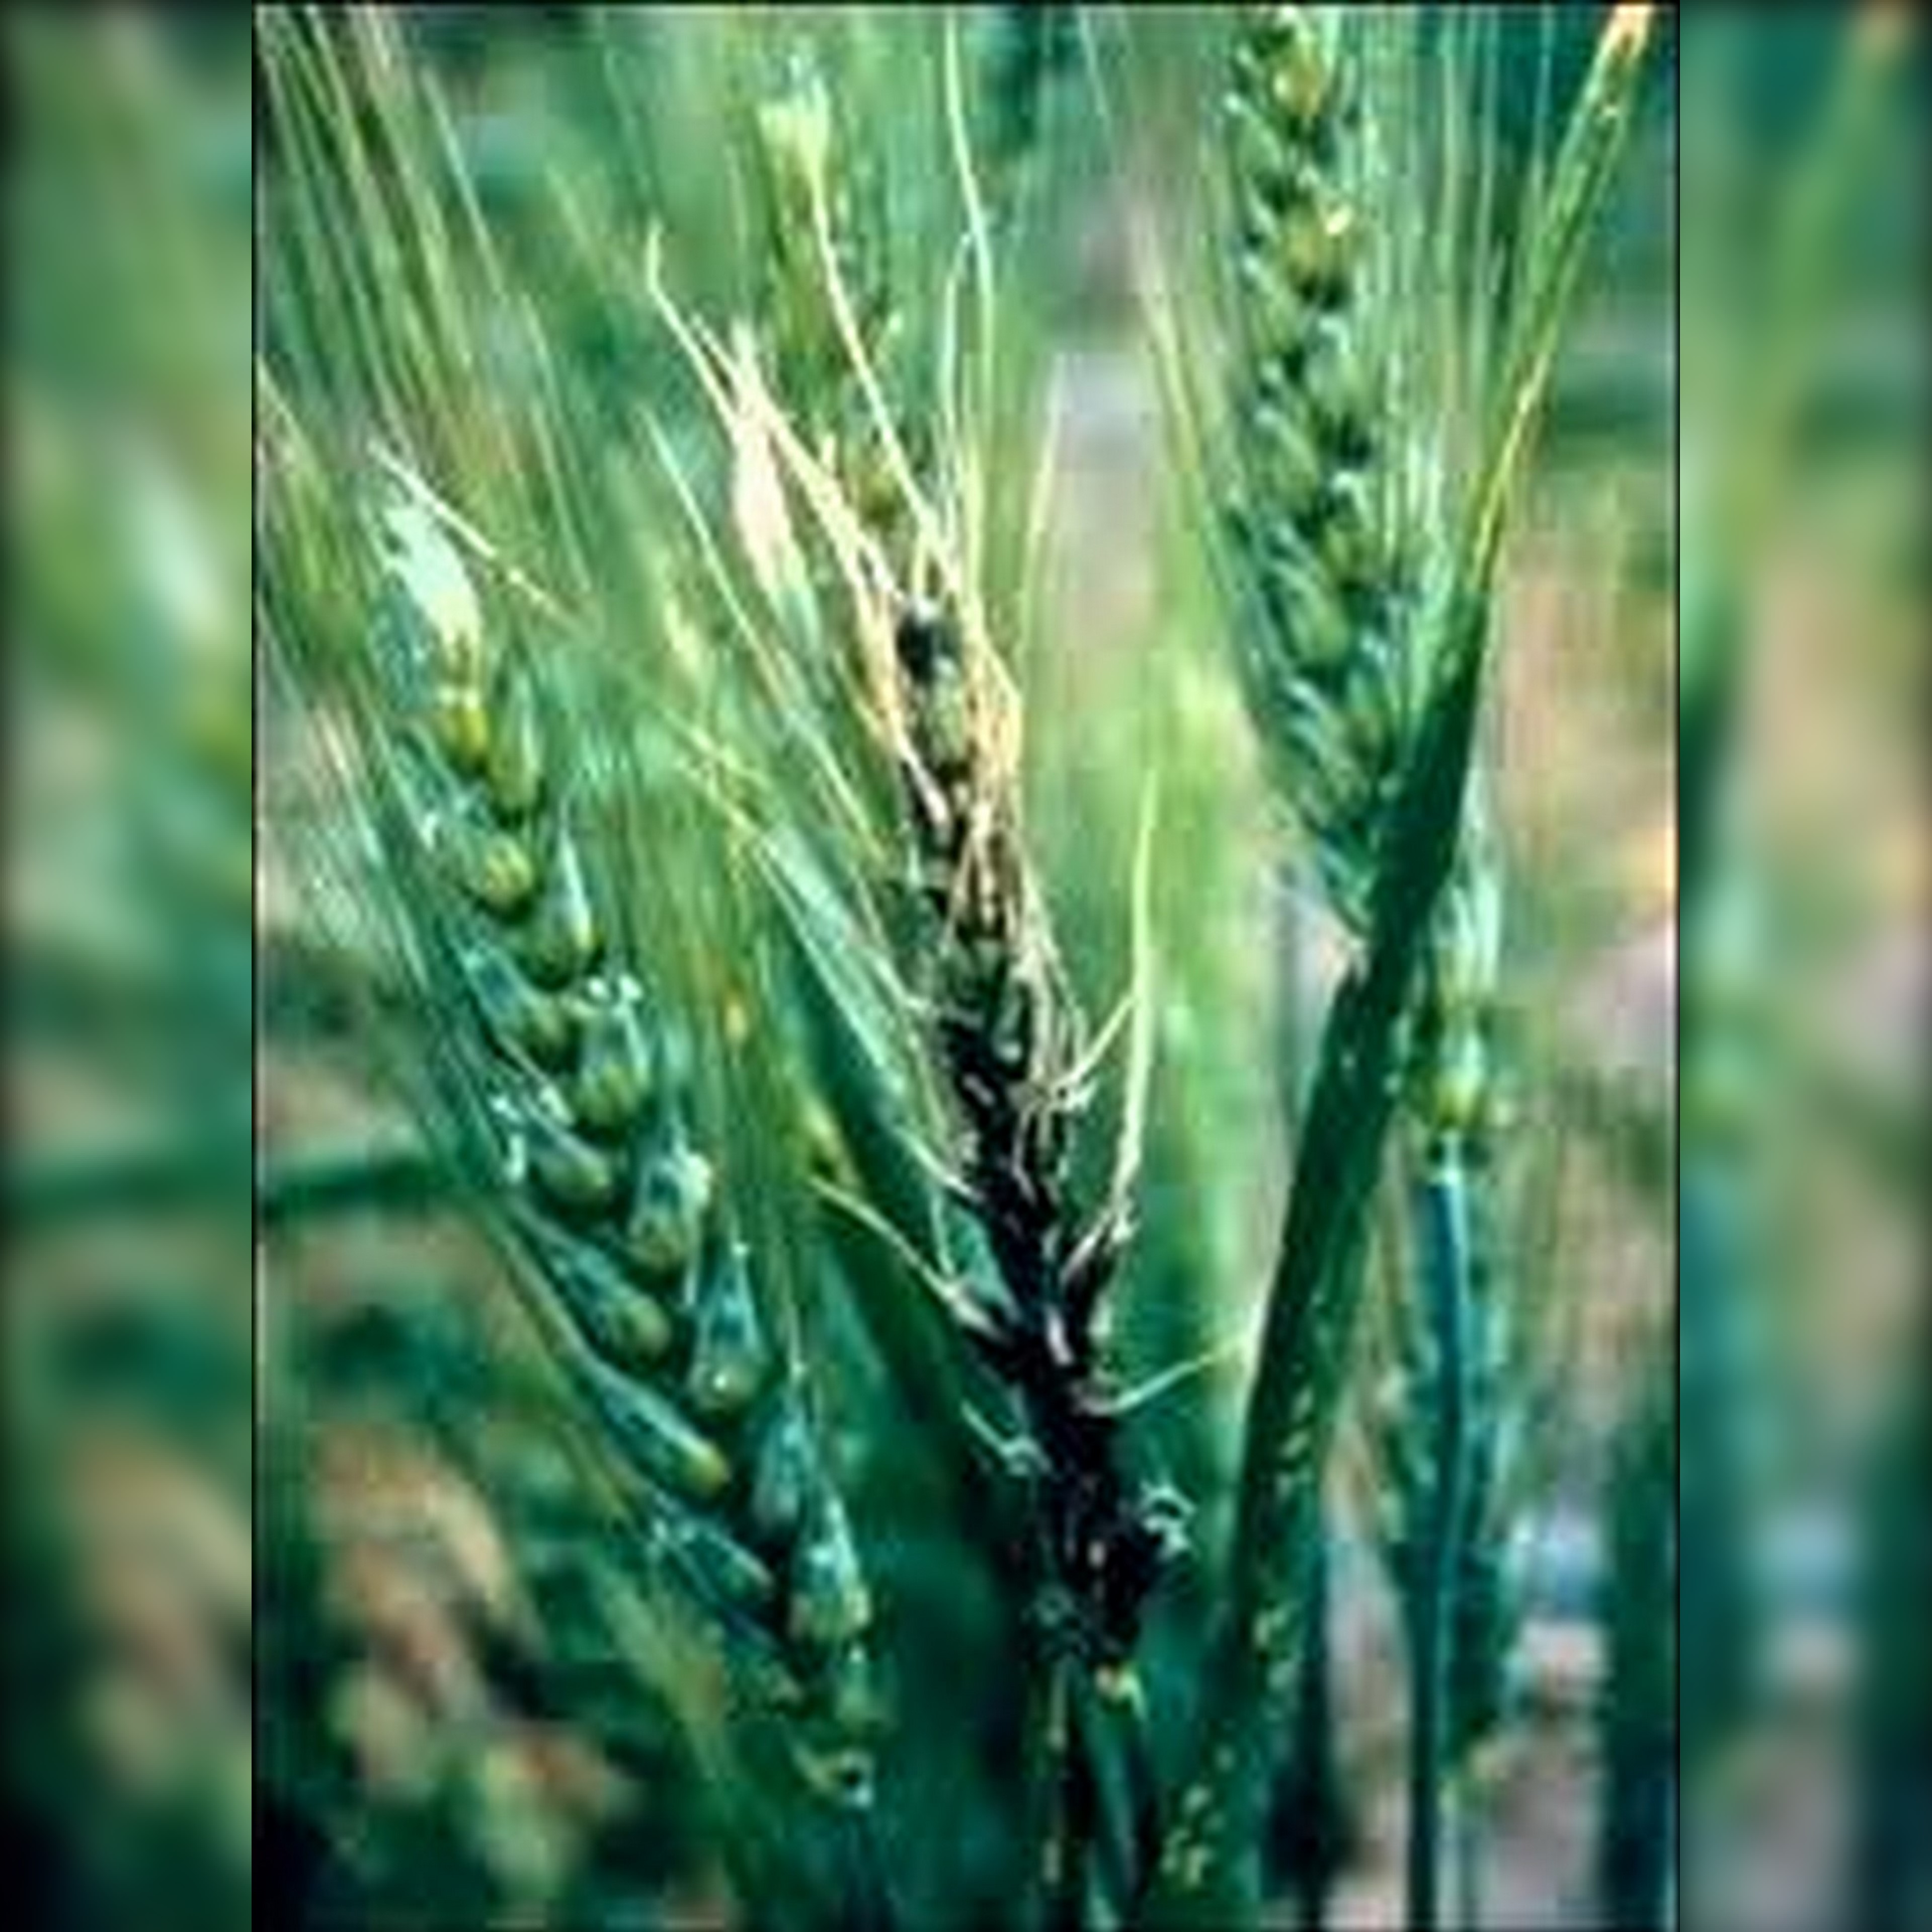Wheat Loose Smut: (876, 800, 1244, 1658)
